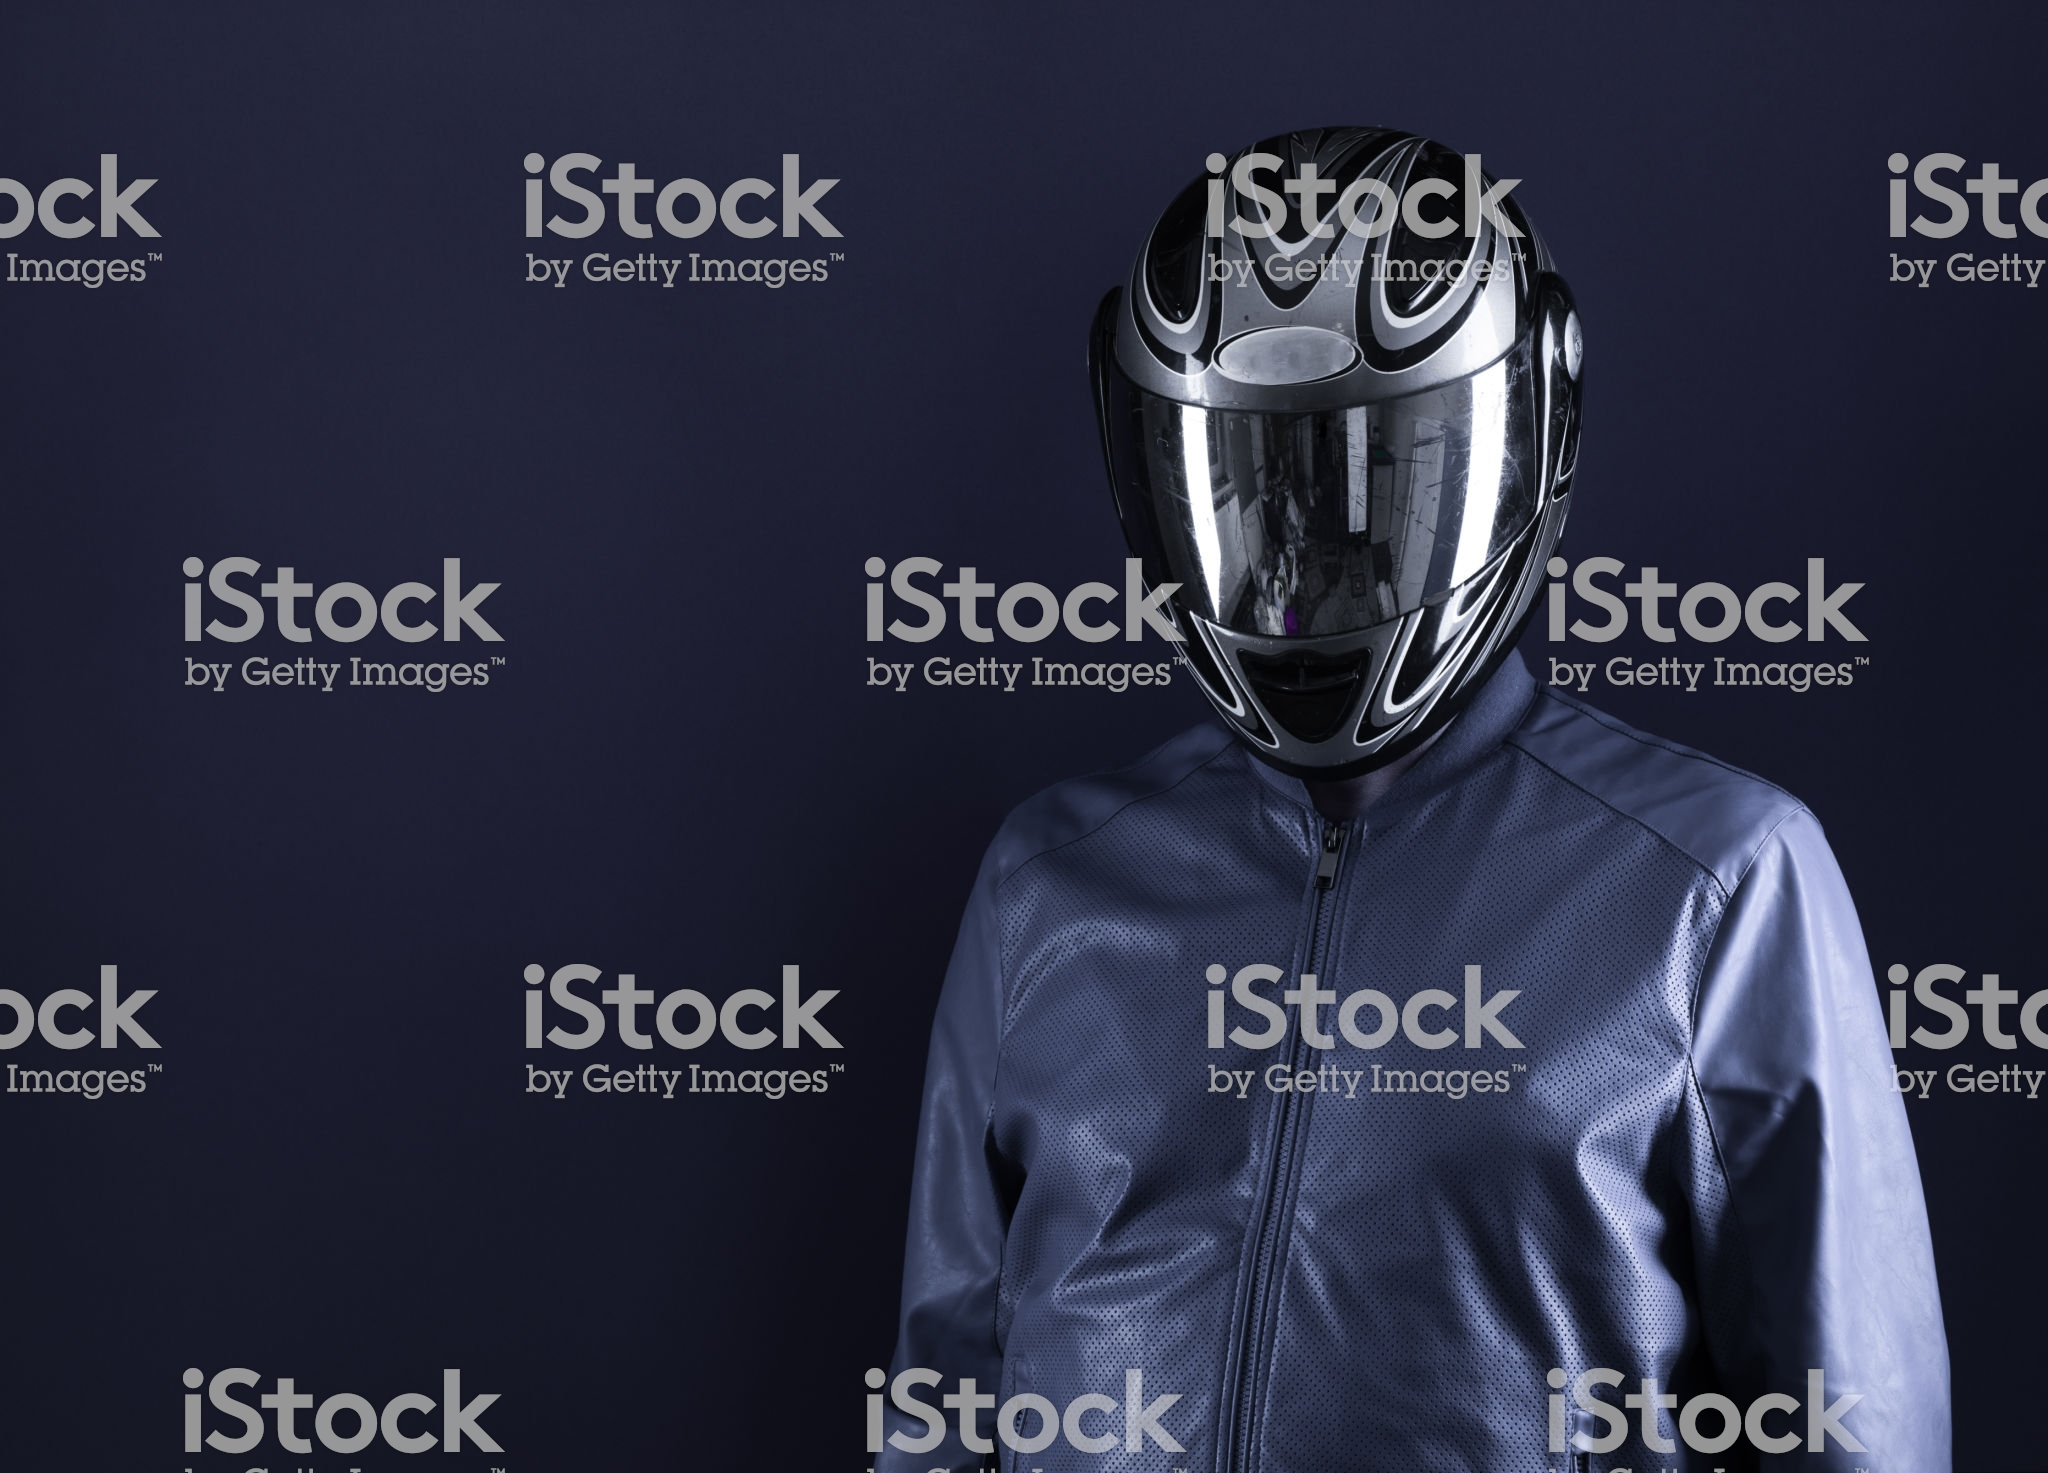helmet: (1126, 89, 1577, 725)
